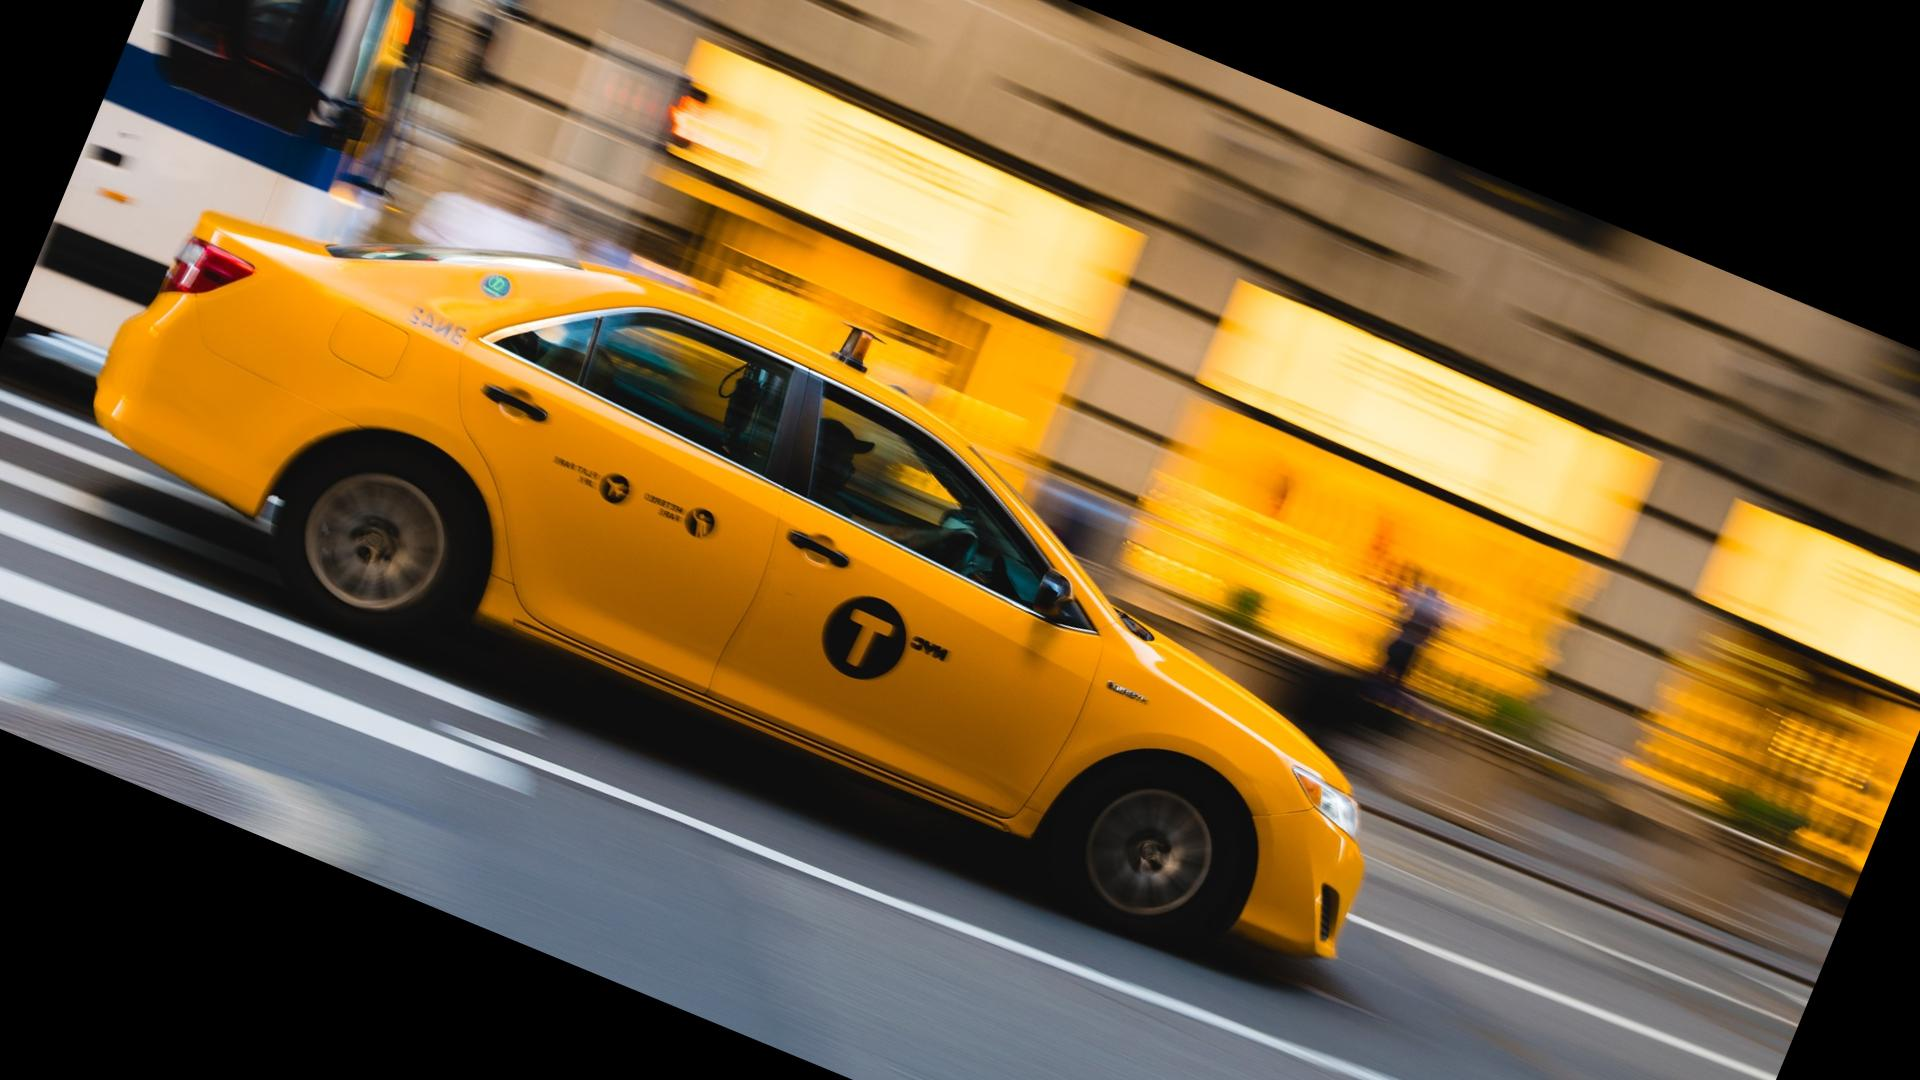taxi: (88, 150, 1373, 992)
